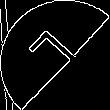L_SE: (25, 26, 85, 84)
